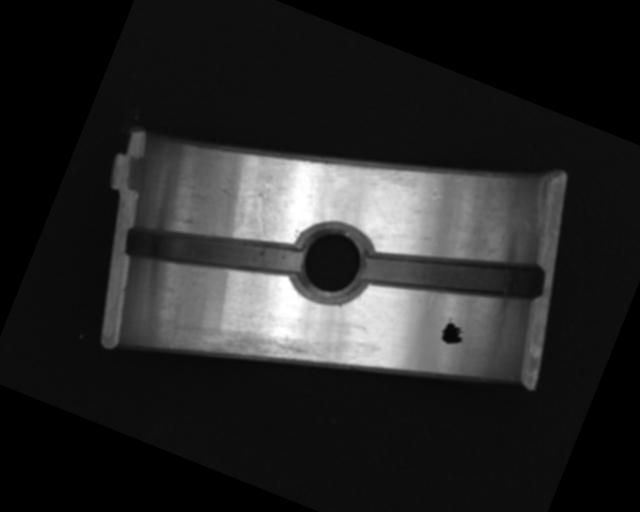blot: (436, 315, 470, 350)
bruise: (215, 174, 243, 200), (427, 184, 444, 203)
gap: (357, 207, 546, 342), (119, 188, 305, 314)
hole: (279, 210, 383, 318)
nick: (242, 177, 287, 242)
scratch: (164, 292, 327, 403)
